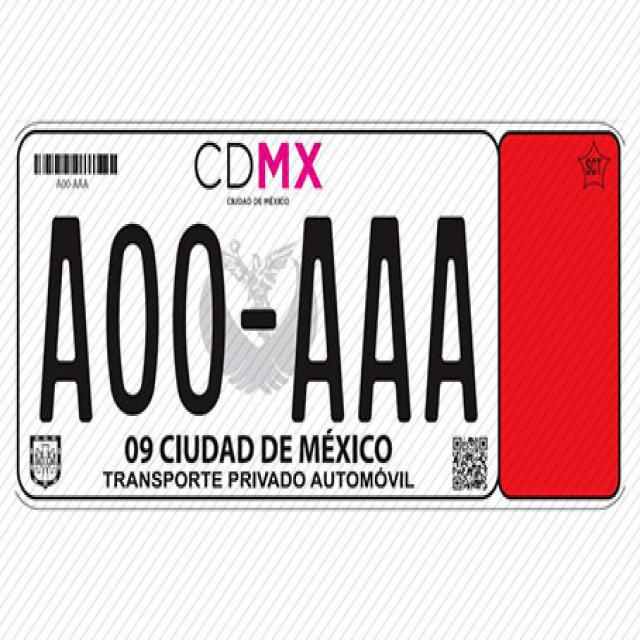placa: (32, 202, 486, 432)
